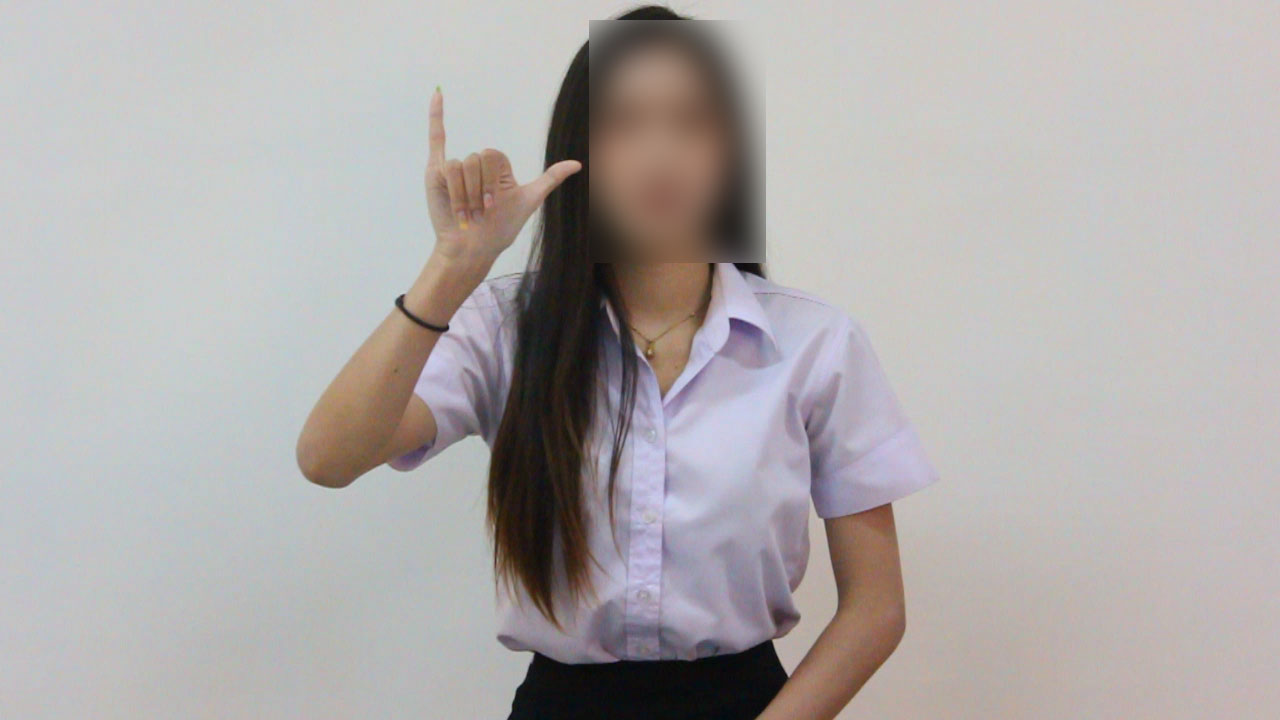yor: (408, 75, 587, 299)
